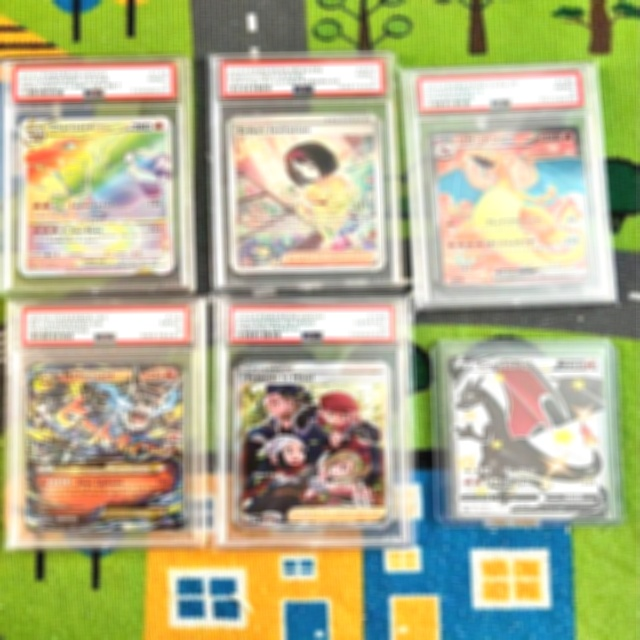card: (444, 354, 614, 522), (428, 126, 600, 290), (26, 362, 188, 532), (233, 360, 394, 530), (20, 116, 179, 278), (231, 114, 389, 273)
